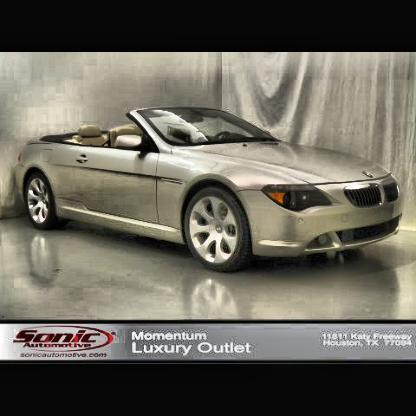BMW 6 Series Convertible 2007: (15, 107, 408, 272)
